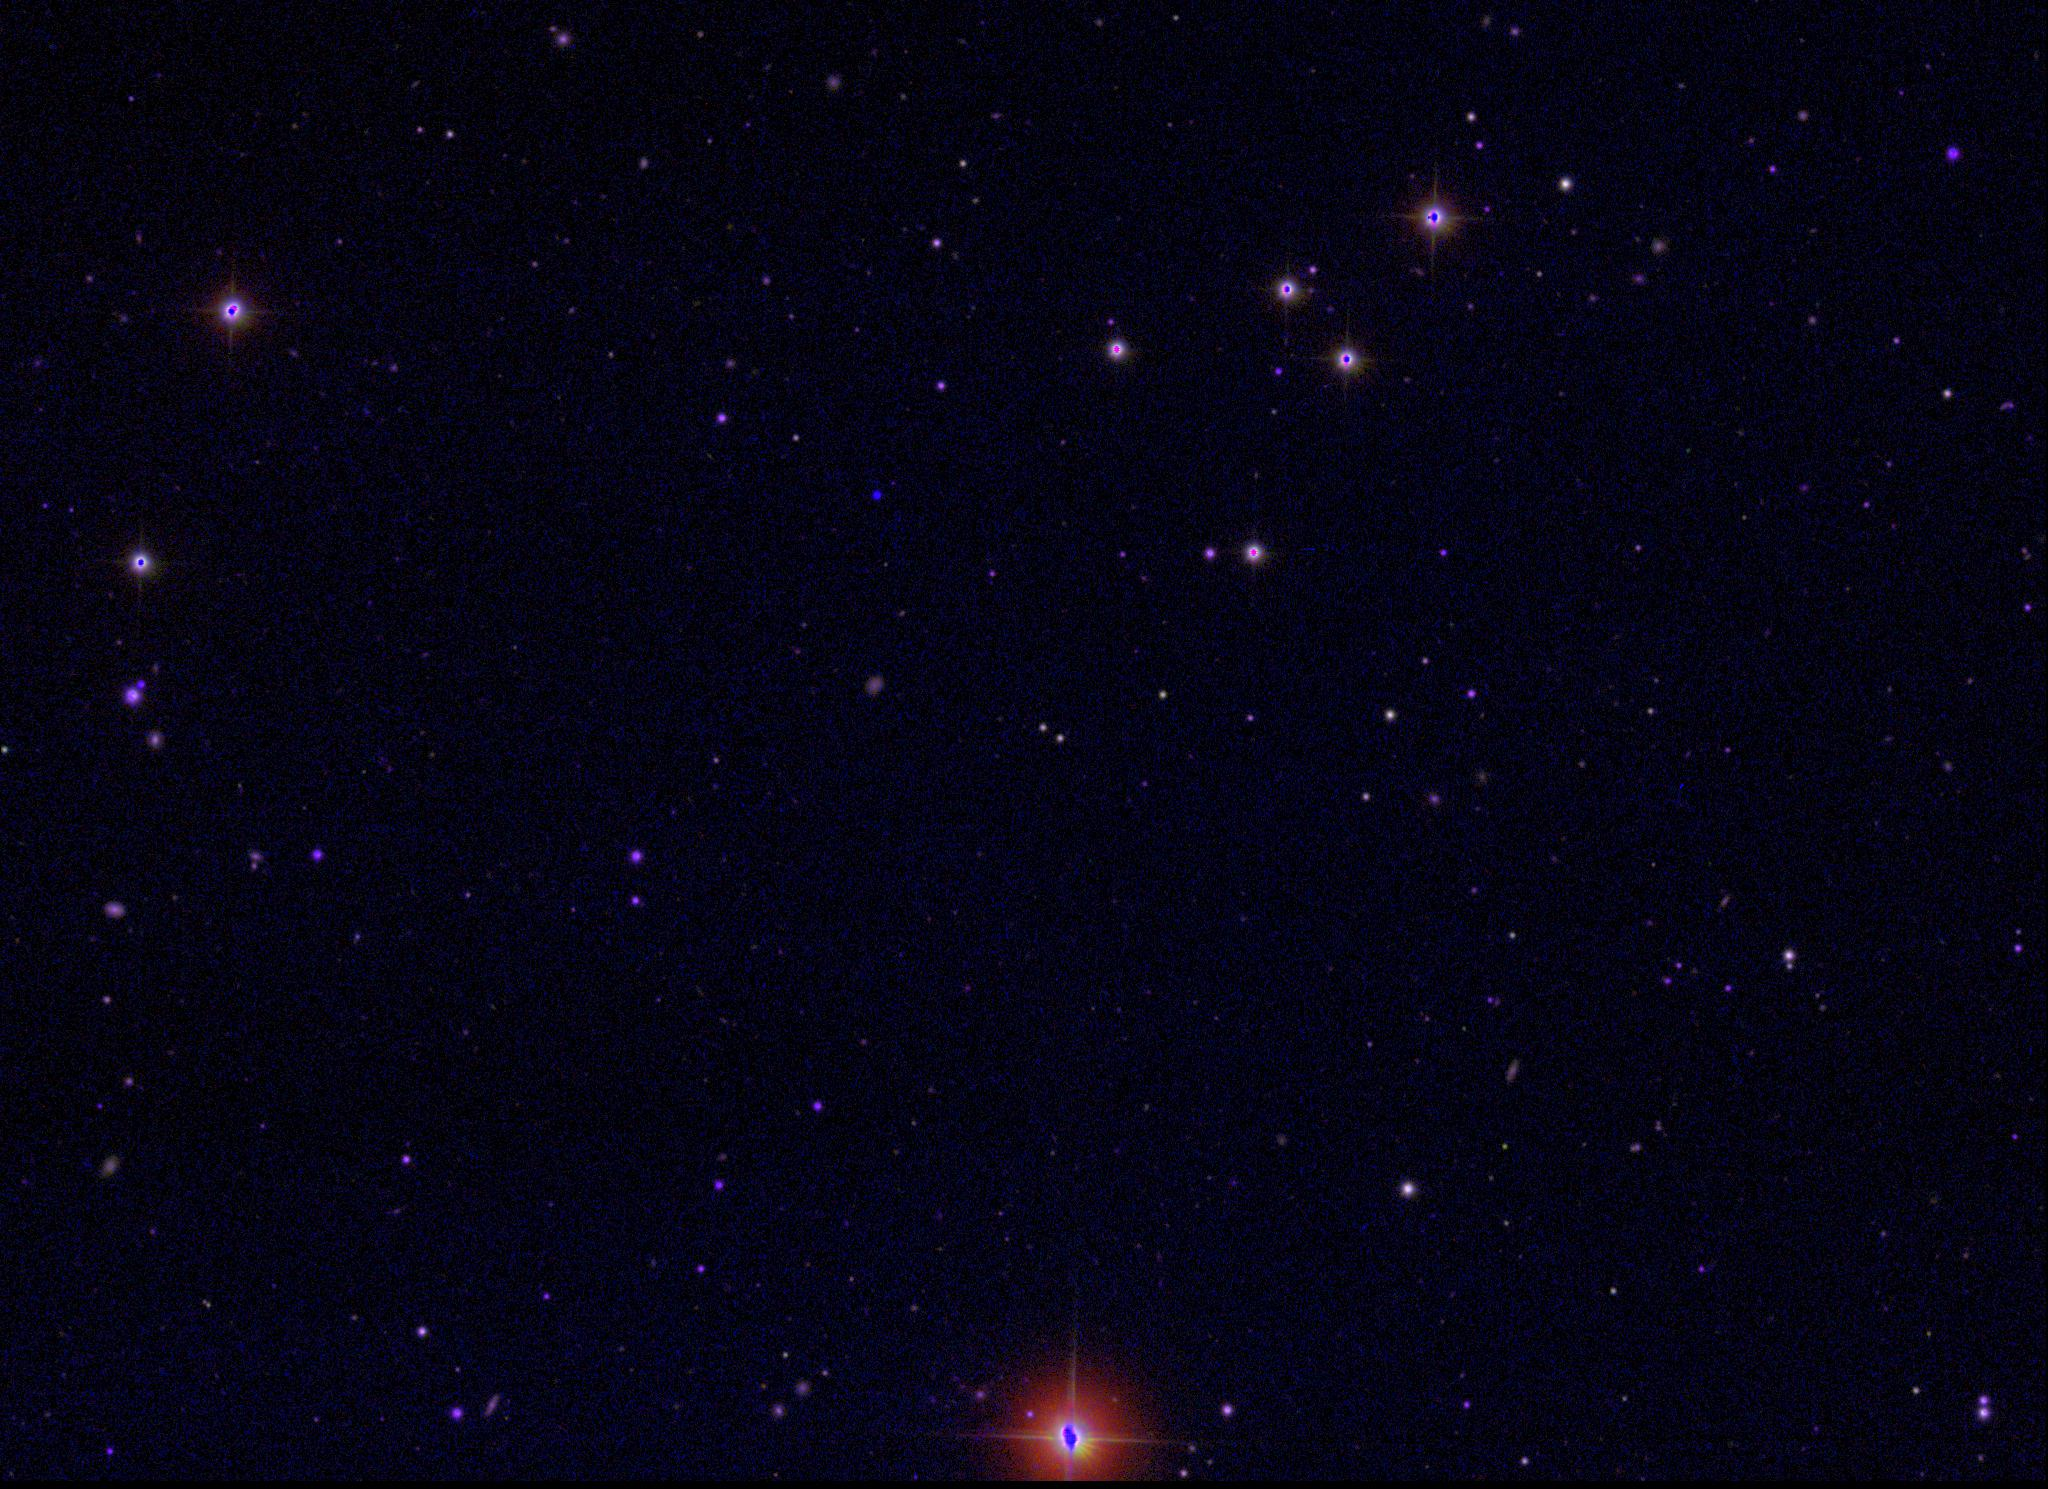L: (870, 488, 884, 503)
